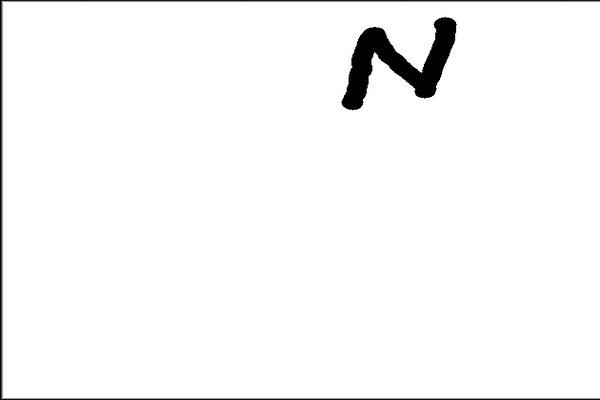N: (332, 13, 463, 113)
